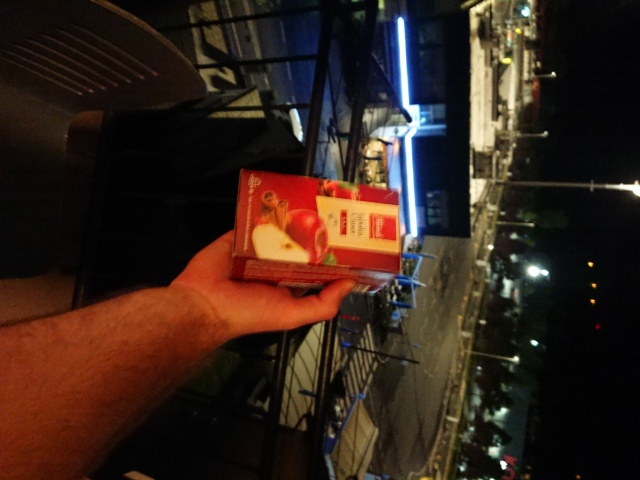Franck Apple Cinnamon Tea 60g: (225, 165, 405, 300)
